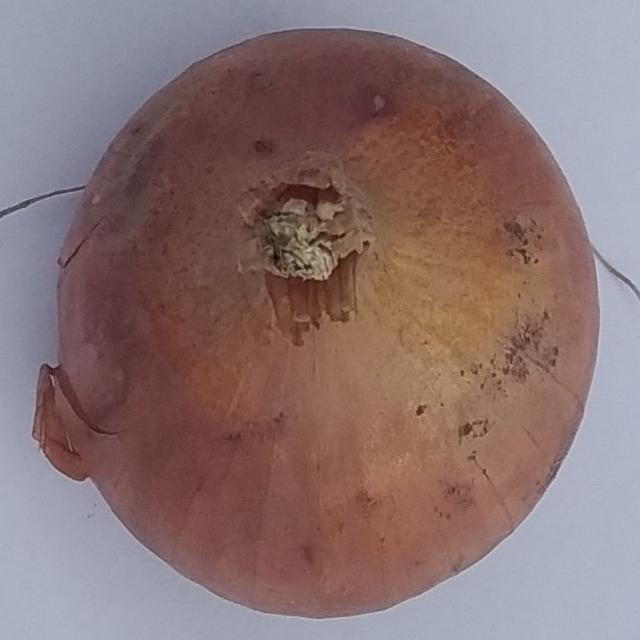onion: (32, 24, 604, 621)
